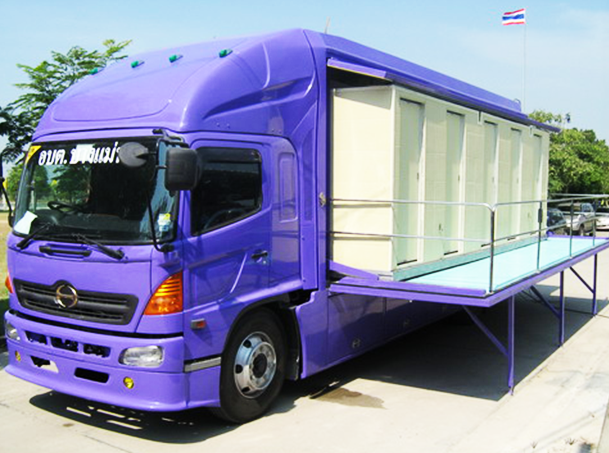truck: (3, 26, 549, 423)
